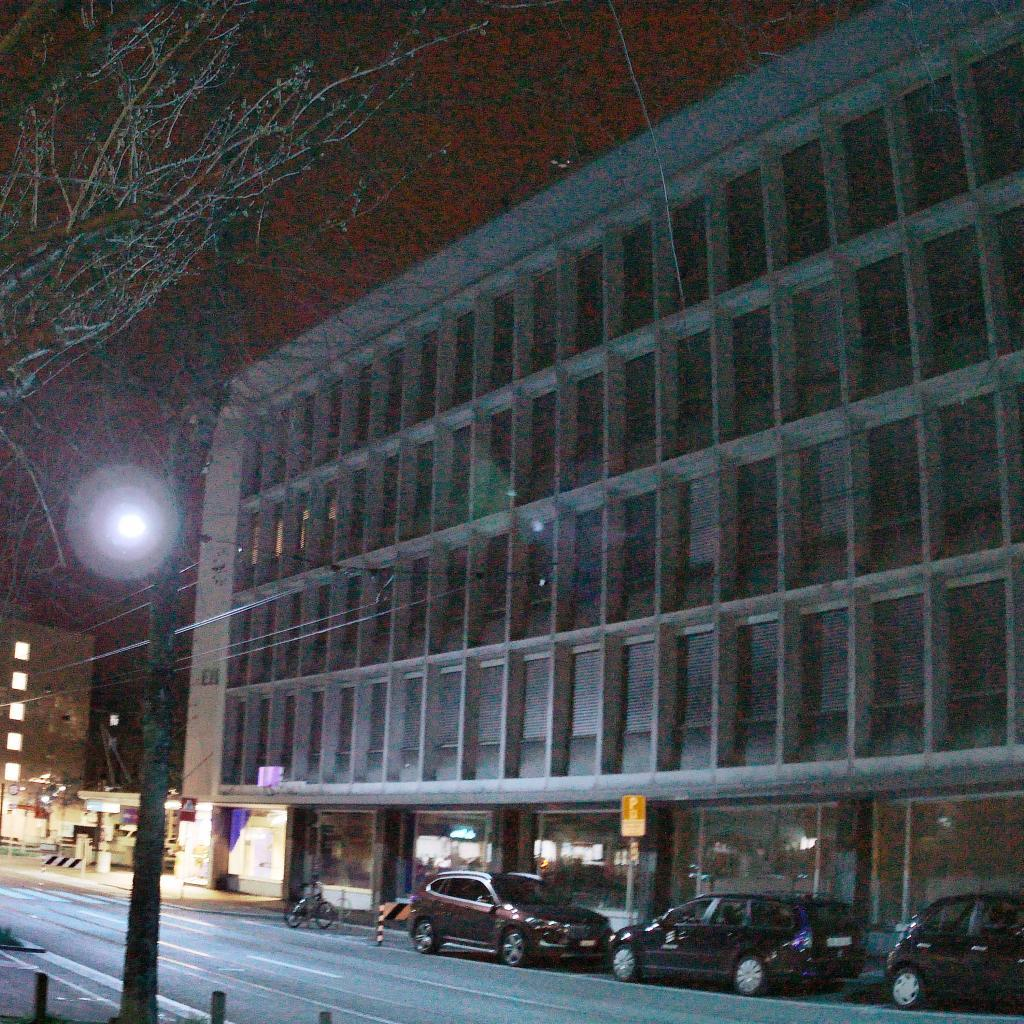car: (608, 890, 867, 998), (407, 871, 612, 972), (885, 892, 1024, 1010)
facade: (182, 0, 1024, 800), (0, 617, 96, 856)
non-building-infrastructure: (0, 972, 64, 1024), (211, 989, 229, 1024), (318, 1011, 332, 1024)
shop: (77, 789, 629, 933), (633, 779, 1024, 957)
street: (159, 906, 1024, 1024), (0, 867, 130, 1024)
traffic-infrastructure: (620, 794, 646, 925)
vegetation: (0, 0, 1024, 1024), (0, 927, 46, 953)
window: (943, 576, 1007, 751), (936, 393, 1001, 559), (924, 223, 990, 378), (865, 415, 922, 574), (869, 594, 924, 755), (904, 74, 968, 212), (856, 253, 913, 401), (970, 39, 1024, 187), (839, 106, 898, 239), (798, 607, 847, 761), (798, 436, 846, 589), (791, 278, 840, 422), (781, 137, 830, 266), (734, 622, 777, 765), (735, 458, 778, 600), (731, 304, 775, 439), (670, 329, 713, 459), (677, 473, 714, 611), (725, 169, 766, 290), (679, 631, 714, 771), (668, 195, 709, 313), (619, 640, 655, 774), (619, 491, 656, 621), (565, 650, 600, 776), (621, 351, 655, 472), (997, 203, 1024, 352), (517, 656, 550, 777), (568, 507, 600, 631), (620, 221, 654, 335), (477, 532, 509, 647), (521, 521, 552, 638), (574, 373, 604, 488), (526, 391, 556, 503), (572, 247, 602, 356), (476, 665, 503, 779), (438, 546, 466, 654), (434, 671, 460, 781), (530, 268, 556, 374), (445, 424, 471, 529), (366, 567, 393, 666), (487, 410, 512, 515), (404, 557, 429, 659), (488, 289, 512, 392), (398, 677, 421, 782), (336, 576, 360, 671), (451, 310, 474, 409), (414, 330, 436, 424), (412, 441, 433, 538), (377, 455, 399, 547), (367, 683, 387, 783), (335, 688, 354, 783), (384, 349, 403, 437), (312, 584, 330, 674), (319, 481, 336, 566), (347, 469, 363, 559), (292, 491, 309, 575), (307, 692, 323, 781), (355, 364, 371, 450), (285, 593, 301, 678), (325, 380, 341, 462), (268, 501, 284, 582), (243, 511, 259, 589), (273, 409, 289, 484), (281, 696, 295, 781), (299, 395, 314, 471), (261, 601, 275, 682), (231, 703, 244, 784), (237, 609, 251, 683), (256, 699, 269, 773), (252, 425, 263, 495), (13, 641, 31, 663), (11, 671, 29, 693), (8, 702, 26, 723), (4, 762, 22, 782), (6, 731, 23, 751)
